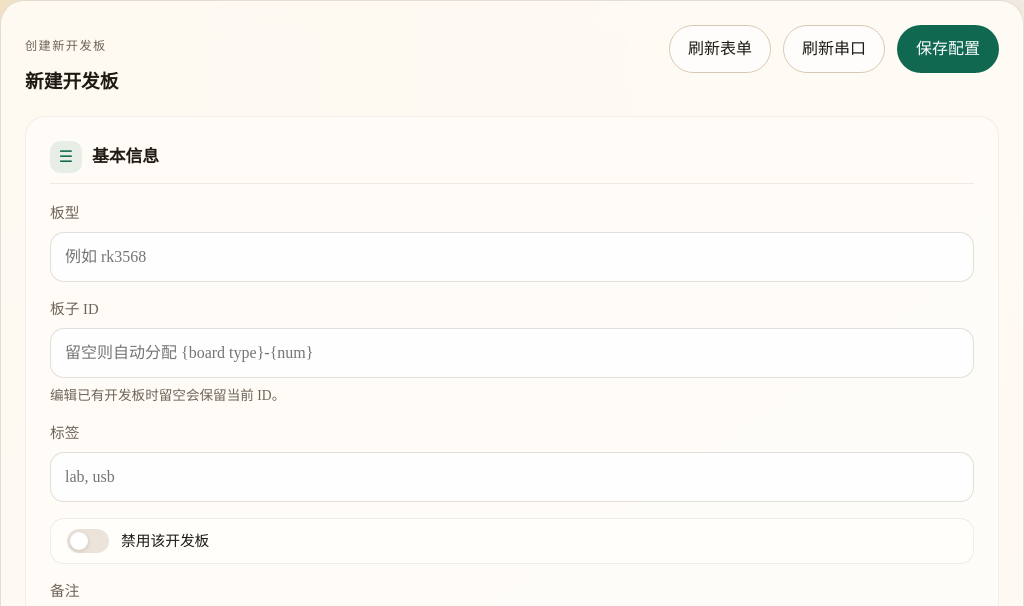
Test: BoardEditorView › blocks saving when required power management fields are empty
Type "rk3568" into the field with placeholder "例如 rk3568" at coordinates (512, 257), box x1=50 y1=232 x2=974 y2=282
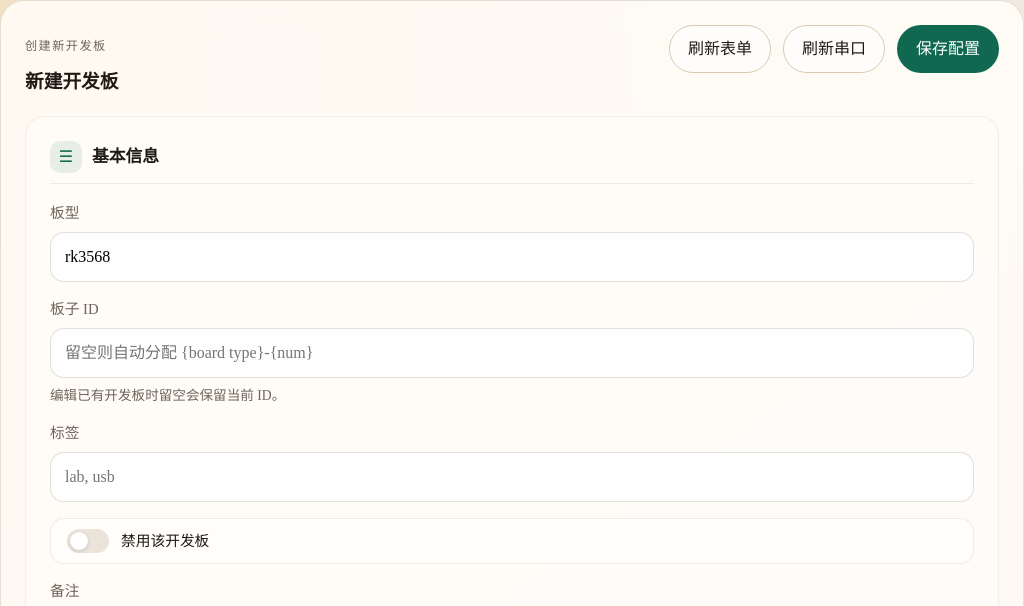
Click the button "保存配置" at coordinates (948, 49), box x1=897 y1=25 x2=999 y2=73
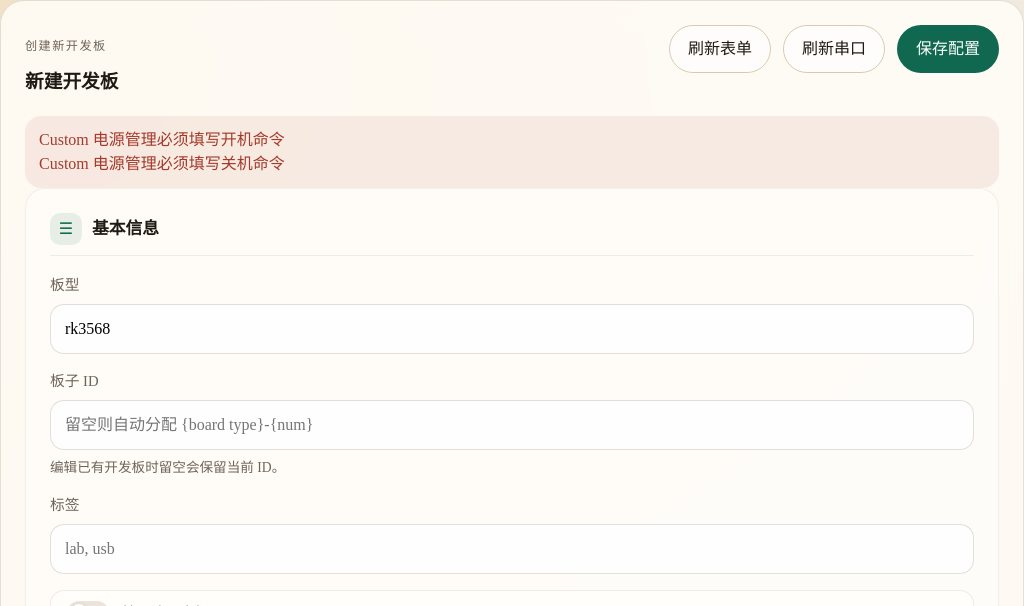
Now the text "Custom 电源管理必须填写开机命令" is shown, box x1=39 y1=131 x2=285 y2=172
